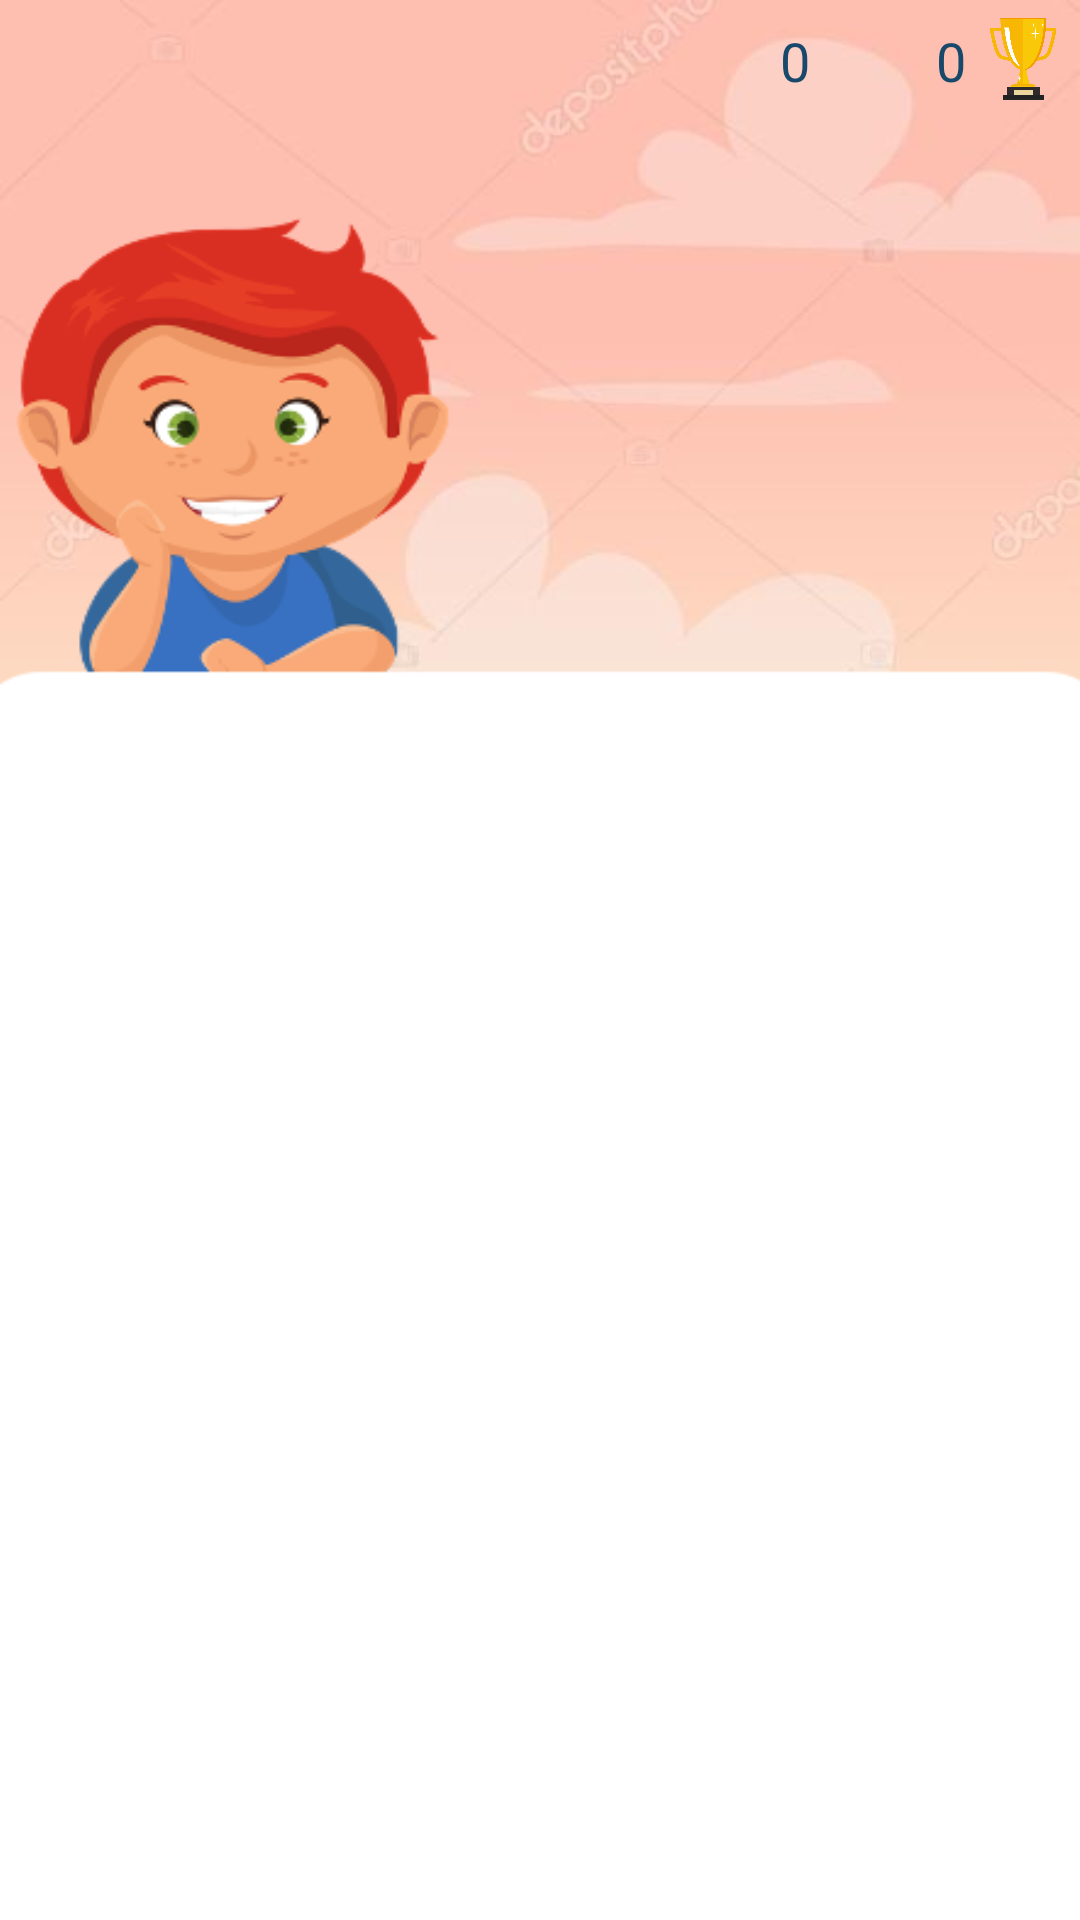

Icon click points for this 1080w x 1920h phone screenshot, format point (x, y):
prize: point (1023, 59)
